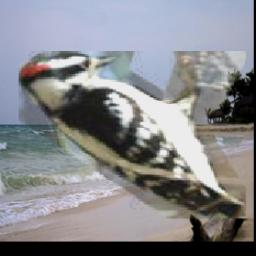Woodpecker: (20, 51, 247, 218)
